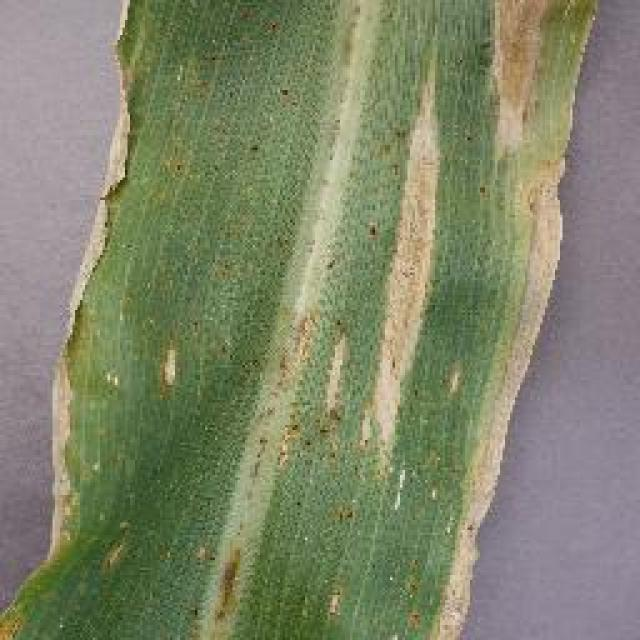Corn___Northern_Leaf_Blight: (225, 0, 619, 622)
